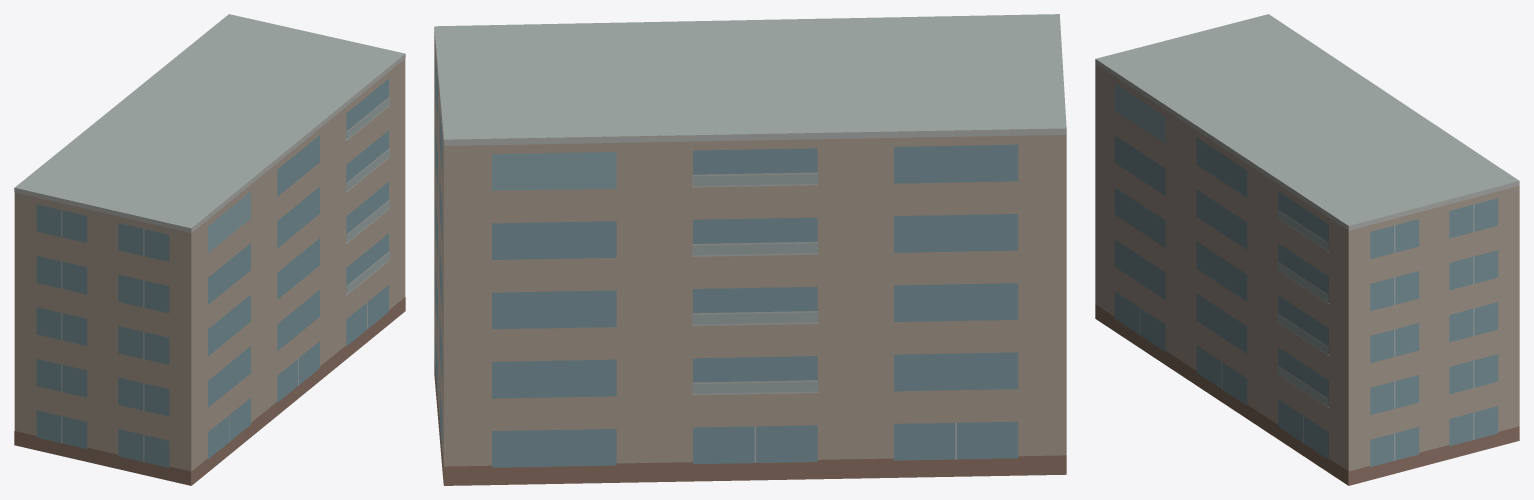
Rendered from survey-upis-32682880.glb.
3 renders of one model, left to right at view 1: azimuth 30°, elevation 25°; view 2: azimuth 150°, elevation 25°; view 3: azimuth 270°, elevation 25°, orthographic. The views are drawn at different scales.
Visible parts, largest first — view 1: survey-upis-32682880.tmp; view 2: survey-upis-32682880.tmp; view 3: survey-upis-32682880.tmp.
Part boxes in pixels (bbox=[...]): survey-upis-32682880.tmp: bbox=[14, 14, 405, 485]; survey-upis-32682880.tmp: bbox=[434, 14, 1066, 485]; survey-upis-32682880.tmp: bbox=[1095, 14, 1519, 485].
Size of the model in its own units: 23.28 by 13.3 by 19.69.
